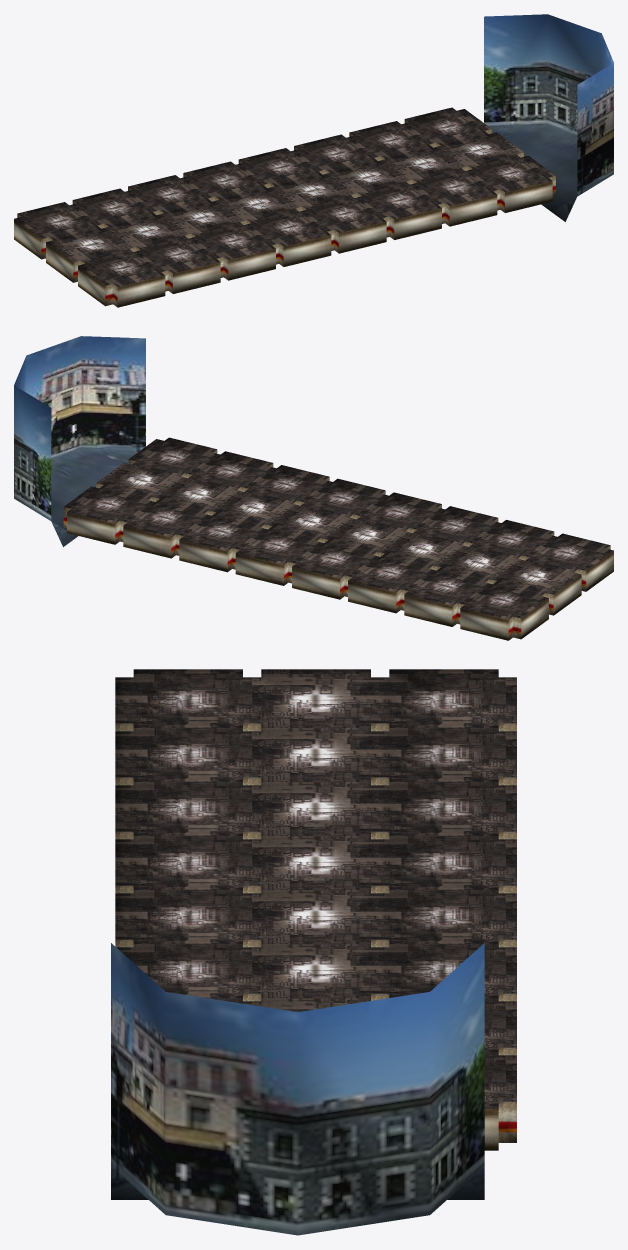
The model's file is ENVI_Carpark.obj.
The picture shows the model from 3 angles, top to bottom: view 1: azimuth 30°, elevation 25°; view 2: azimuth 150°, elevation 25°; view 3: azimuth 270°, elevation 25°; orthographic projection. The views are drawn at different scales.
Parts seen in each view (by area): view 1: ENVI_Carpark; view 2: ENVI_Carpark; view 3: ENVI_Carpark.
Part boxes in pixels (bbox=[...]): ENVI_Carpark: bbox=[14, 14, 613, 307]; ENVI_Carpark: bbox=[14, 336, 613, 640]; ENVI_Carpark: bbox=[111, 669, 516, 1235].
Size of the model in its own units: 68 by 16.25 by 22.24.
Materials: 8 (7 with a texture image).
